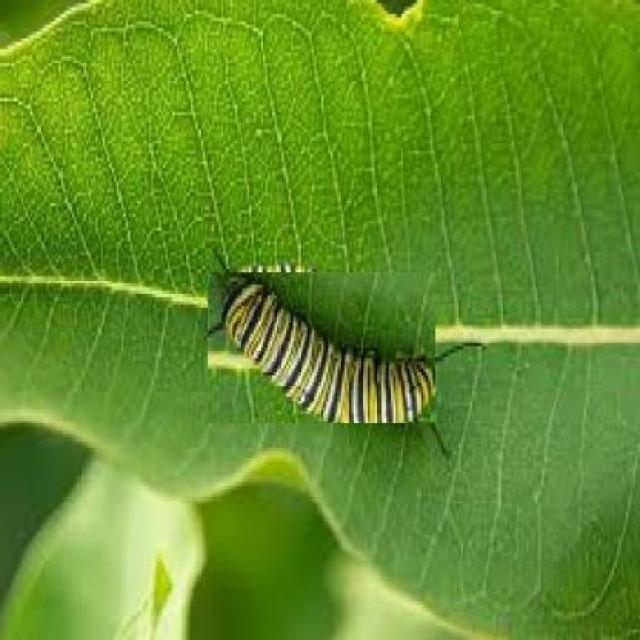Plaga: (207, 271, 438, 425)
